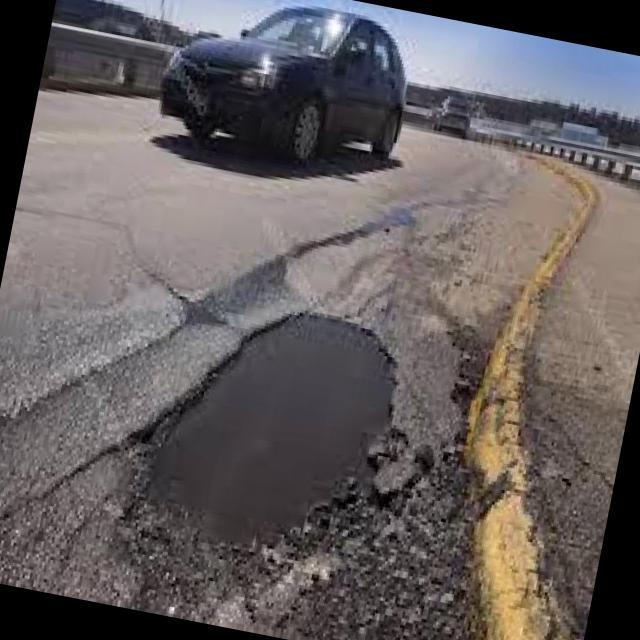Burst: (134, 312, 398, 537)
